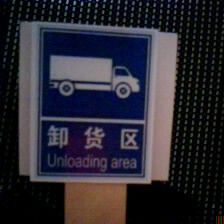unload: (25, 20, 162, 183)
